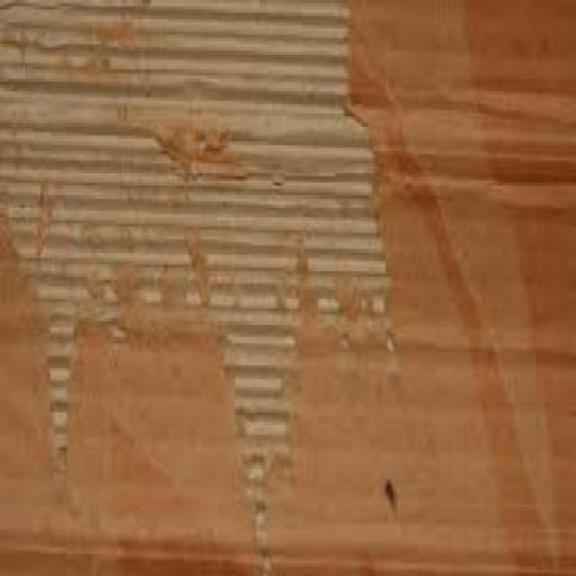Kertas: (0, 1, 575, 575)
